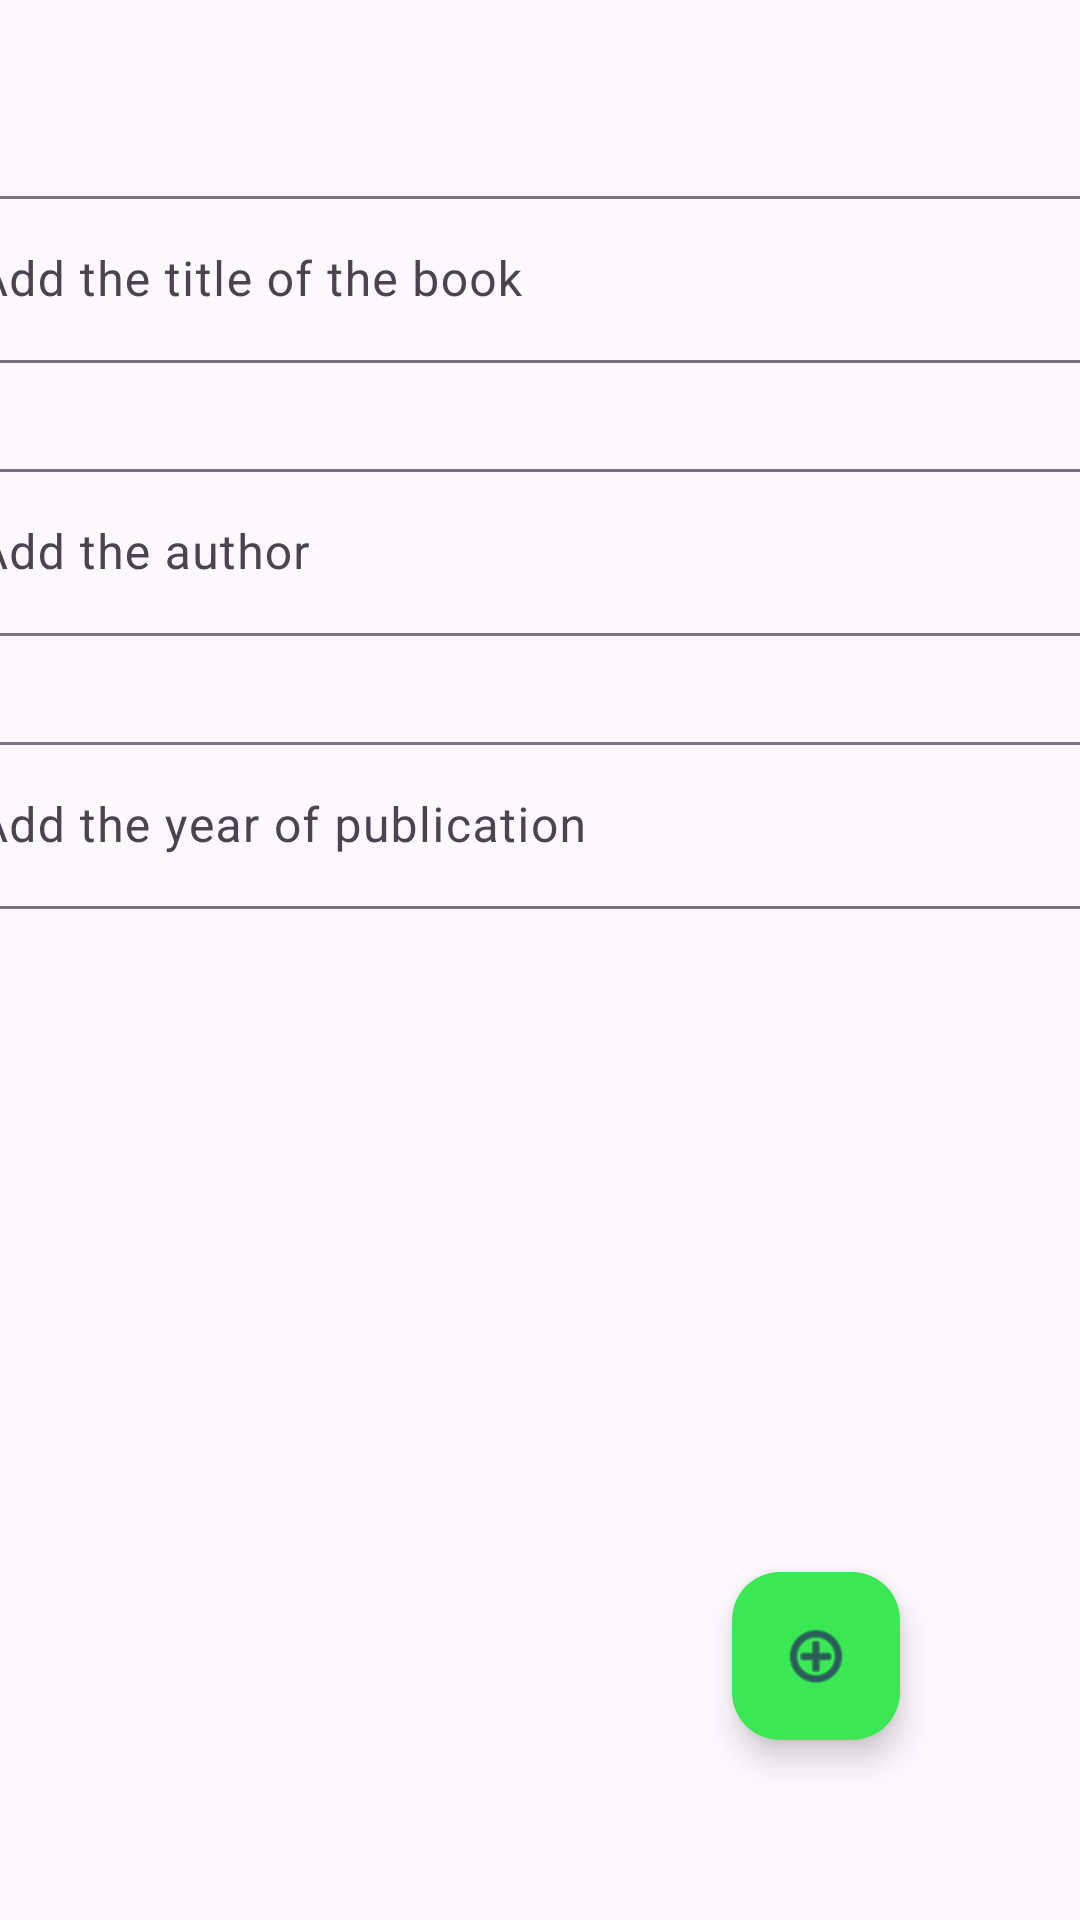

Locate icon controls on the screen. Image size 1080px×1920px, boxes as BBox(x1, y1, x2, y2).
add: BBox(732, 1572, 900, 1740)
